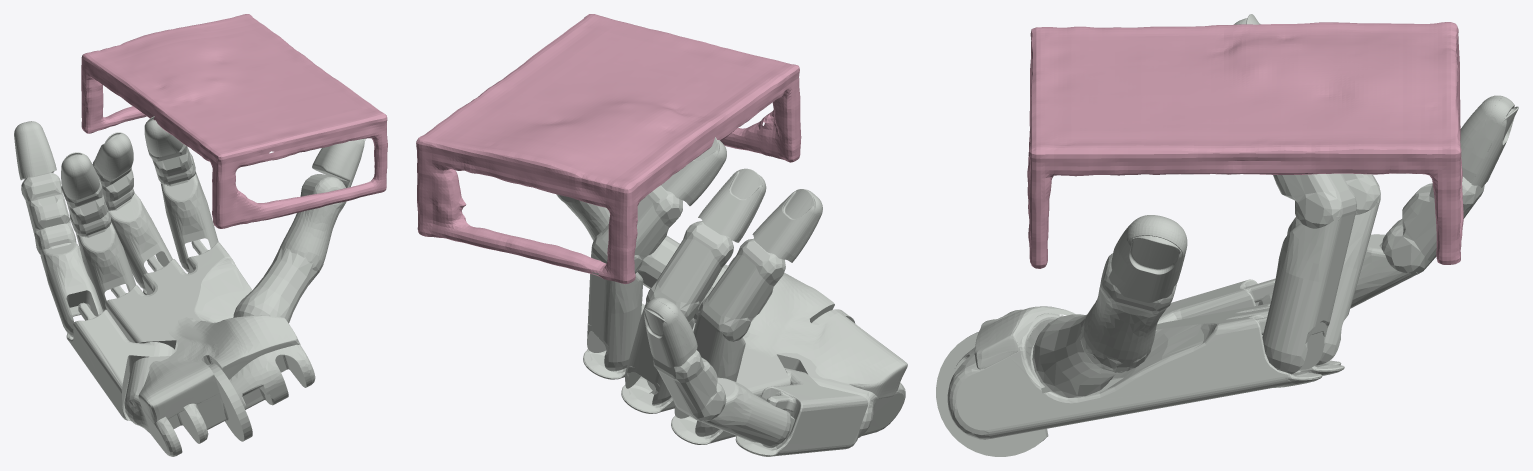
3 renders of one model, left to right at view 1: azimuth 30°, elevation 25°; view 2: azimuth 150°, elevation 25°; view 3: azimuth 270°, elevation 25°, orthographic. The views are drawn at different scales.
Visible parts, largest first — view 1: hand, world; view 2: hand, world; view 3: hand, world.
Part boxes in pixels (x1=…): hand: x1=14, y1=116, x2=365, y2=456; world: x1=81, y1=14, x2=387, y2=228; hand: x1=556, y1=137, x2=907, y2=456; world: x1=416, y1=14, x2=801, y2=284; hand: x1=936, y1=14, x2=1518, y2=456; world: x1=1027, y1=22, x2=1463, y2=268.
Size of the model in its own units: 0.1468 by 0.1486 by 0.1766.
